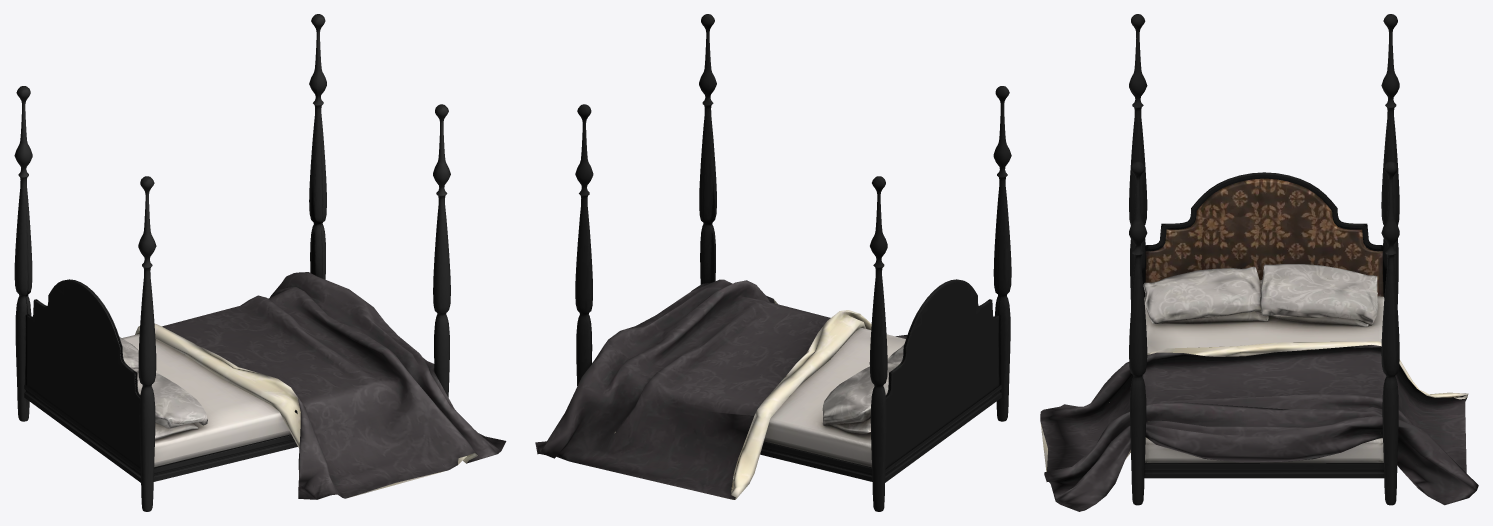
Rendered from bed_la_parisienne.glb.
The picture shows the model from 3 angles, left to right: view 1: azimuth 30°, elevation 25°; view 2: azimuth 150°, elevation 25°; view 3: azimuth 270°, elevation 25°; orthographic projection. The views are drawn at different scales.
Visible parts, largest first — view 1: PosterBed1_None1-material, Material-material, BedMattress_PosterBed1_None1_002-material; view 2: PosterBed1_None1-material, Material-material, BedMattress_PosterBed1_None1_002-material; view 3: PosterBed1_None1-material, Material-material, BedMattress_PosterBed1_None1_002-material.
Boxes of the visible parts, x1,y1,x2,y2 form: PosterBed1_None1-material: (135,272,506,499); Material-material: (14,14,450,511); BedMattress_PosterBed1_None1_002-material: (119,334,290,467); PosterBed1_None1-material: (535,279,907,499); Material-material: (575,14,1011,511); BedMattress_PosterBed1_None1_002-material: (764,328,905,467); PosterBed1_None1-material: (1040,341,1478,511); Material-material: (1129,14,1399,505); BedMattress_PosterBed1_None1_002-material: (1143,264,1384,463).
Size of the model in its own units: 13.09 by 12.32 by 14.33.
Materials: 3 (3 with a texture image).
